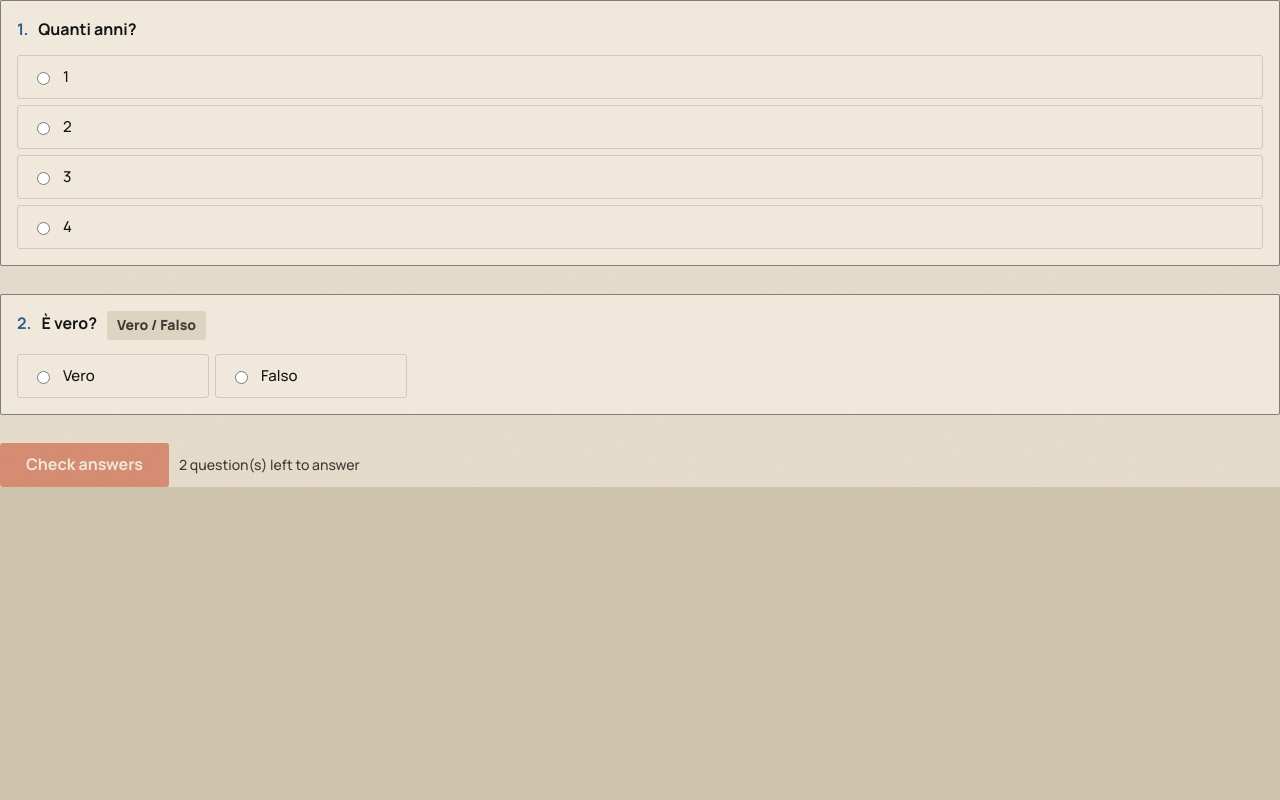
Quiz › scores the answers and shows corrections
Expected: the button "Check answers" is disabled, top-left (0, 443), bottom-right (169, 487)
Click the radio button labelled "3" at [44, 179], box top-left (37, 172), bottom-right (50, 186)
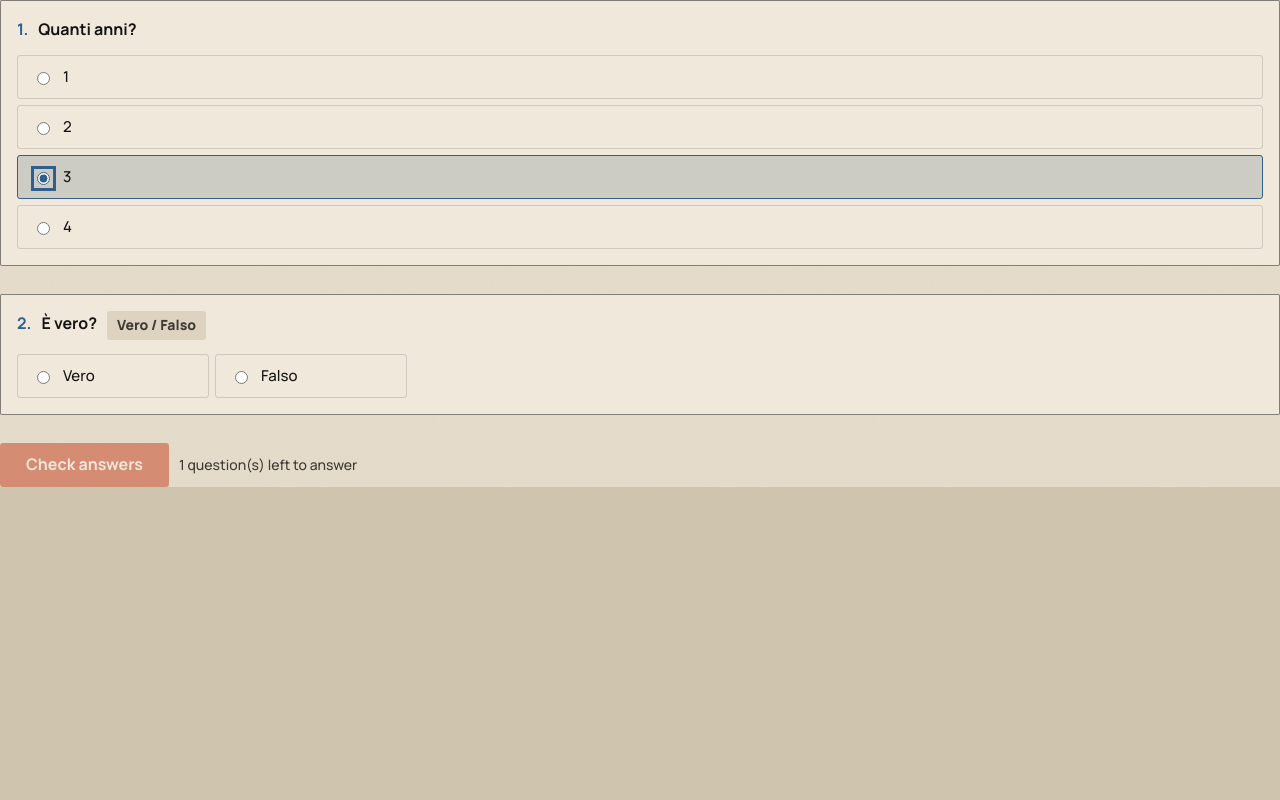
Click the radio button labelled "Vero" at [44, 378], box top-left (37, 371), bottom-right (50, 384)
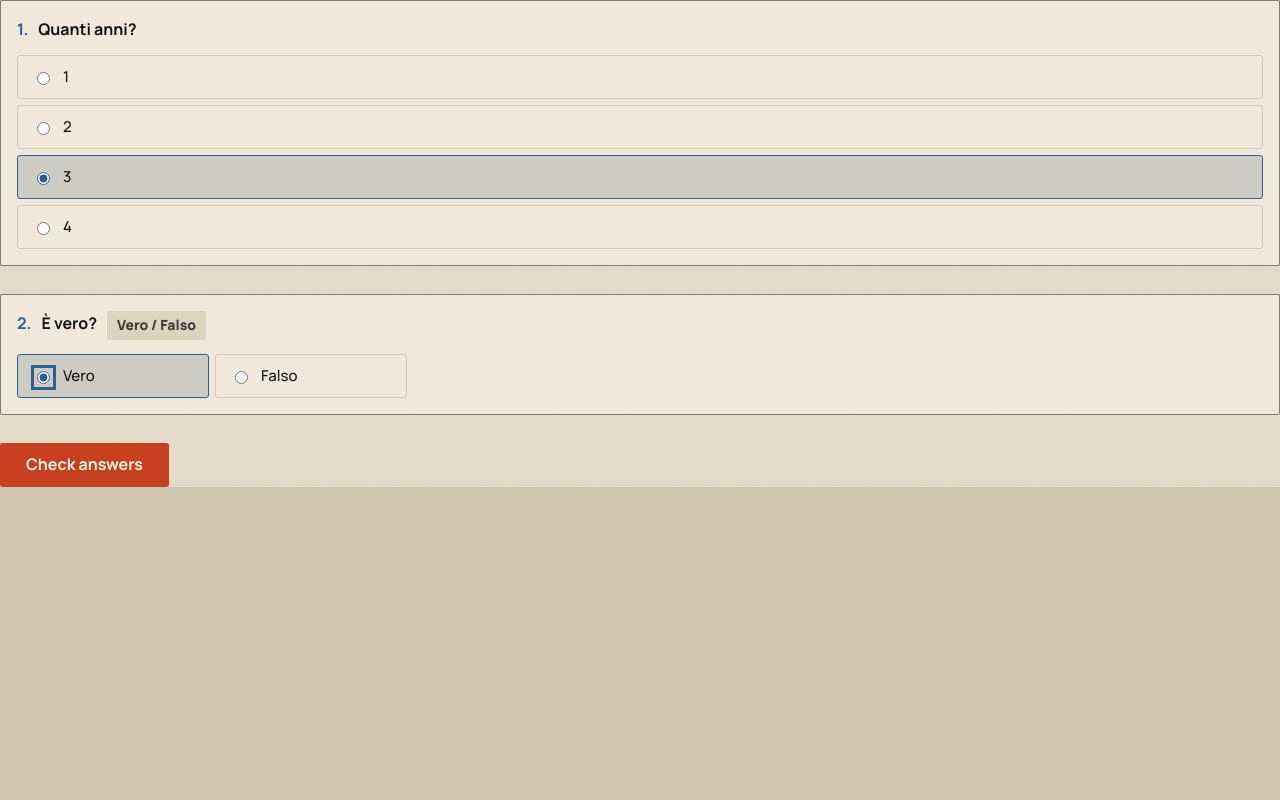
Click the button "Check answers" at [84, 465], box top-left (0, 443), bottom-right (169, 487)
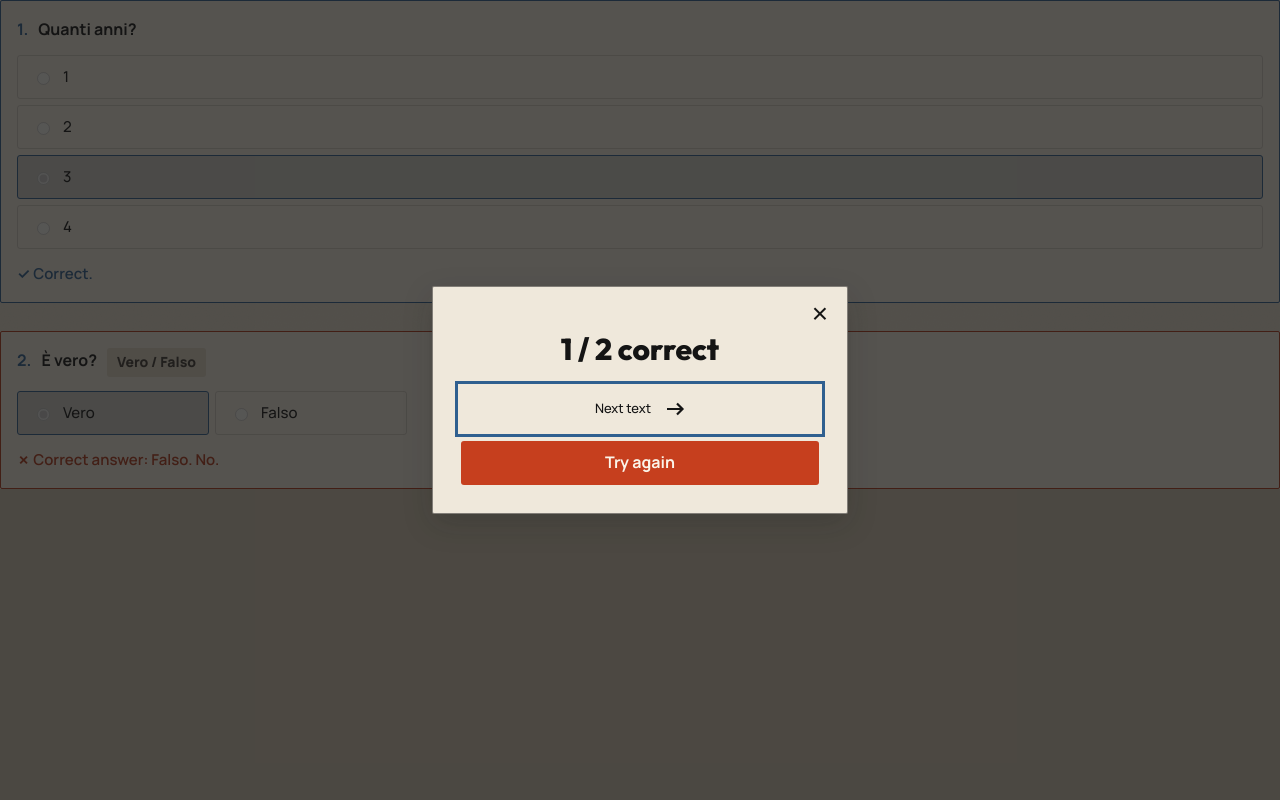
Expected: the text "1 / 2 correct" is shown, top-left (561, 330), bottom-right (719, 368)
Expected: the text "✗ Correct answer: Falso. No." is shown, top-left (17, 449), bottom-right (219, 470)
Expected: the text "No." is shown, top-left (192, 449), bottom-right (219, 470)
